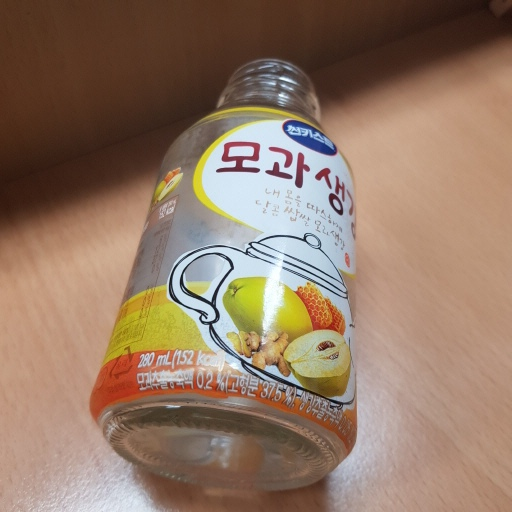Glass_4: (89, 53, 361, 496)
